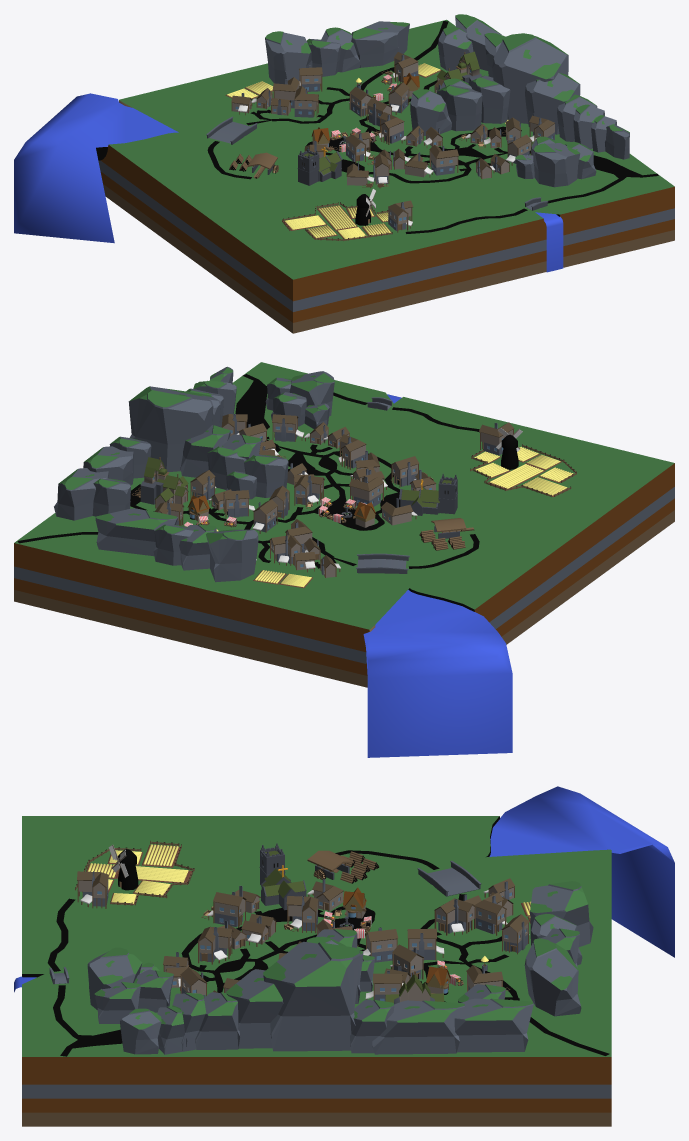
Rendered from Level_2.fbx.
3 renders of one model, top to bottom at view 1: azimuth 30°, elevation 25°; view 2: azimuth 150°, elevation 25°; view 3: azimuth 270°, elevation 25°, orthographic. The views are drawn at different scales.
Visible parts, largest first — view 1: Cube.003, NurbsPath.003, Plane.004, Rock_1.003, Rock_1.014, Rock_1.017, Rock_1.004, Rock_1.013, Rock_1.019, Rock_1.018, Rock_1.002, Church.001 (+24 smaller); view 2: Cube.003, NurbsPath.003, Plane.004, Rock_1.003, Rock_1.014, Rock_1.017, Rock_1.010, Town_center.003, Church.001, Rock_1.002, Rock_1.018, Rock_1.012 (+23 smaller); view 3: Cube.003, NurbsPath.003, Rock_1.003, Plane.004, Rock_1.012, Rock_1.010, Rock_1.014, Rock_1.004, Rock_1.017, Rock_1.005, Rock_1.013, Church.001 (+32 smaller).
Part boxes in pixels (box(x1,y1,x2,y2)): Cube.003: box(96, 19, 674, 333); NurbsPath.003: box(14, 93, 563, 272); Plane.004: box(207, 21, 658, 233); Rock_1.003: box(492, 33, 568, 123); Rock_1.014: box(351, 21, 409, 67); Rock_1.017: box(265, 31, 312, 84); Rock_1.004: box(525, 72, 580, 134); Rock_1.013: box(533, 143, 580, 187); Rock_1.019: box(437, 85, 482, 131); Rock_1.018: box(410, 89, 451, 135); Rock_1.002: box(468, 75, 510, 123); Church.001: box(297, 147, 342, 185); Cube.003: box(14, 362, 674, 687); NurbsPath.003: box(363, 394, 512, 757); Plane.004: box(17, 374, 479, 568); Rock_1.003: box(128, 386, 213, 471); Rock_1.014: box(95, 508, 177, 556); Rock_1.017: box(206, 529, 258, 582); Rock_1.010: box(54, 468, 108, 520); Town_center.003: box(140, 457, 188, 508); Church.001: box(399, 473, 457, 515); Rock_1.002: box(180, 425, 230, 477); Rock_1.018: box(244, 454, 288, 497); Rock_1.012: box(83, 446, 133, 485); Cube.003: box(22, 816, 611, 1126); NurbsPath.003: box(14, 786, 674, 992); Rock_1.003: box(263, 941, 360, 1051); Plane.004: box(47, 850, 609, 1056); Rock_1.012: box(372, 1000, 465, 1054); Rock_1.010: box(454, 998, 533, 1052); Rock_1.014: box(524, 938, 581, 1016); Rock_1.004: box(226, 969, 283, 1048); Rock_1.017: box(530, 881, 593, 946); Rock_1.005: box(195, 992, 240, 1049); Rock_1.013: box(87, 947, 142, 1009); Church.001: box(259, 843, 306, 910).
Size of the model in its own units: 17759 by 6115 by 17561.
